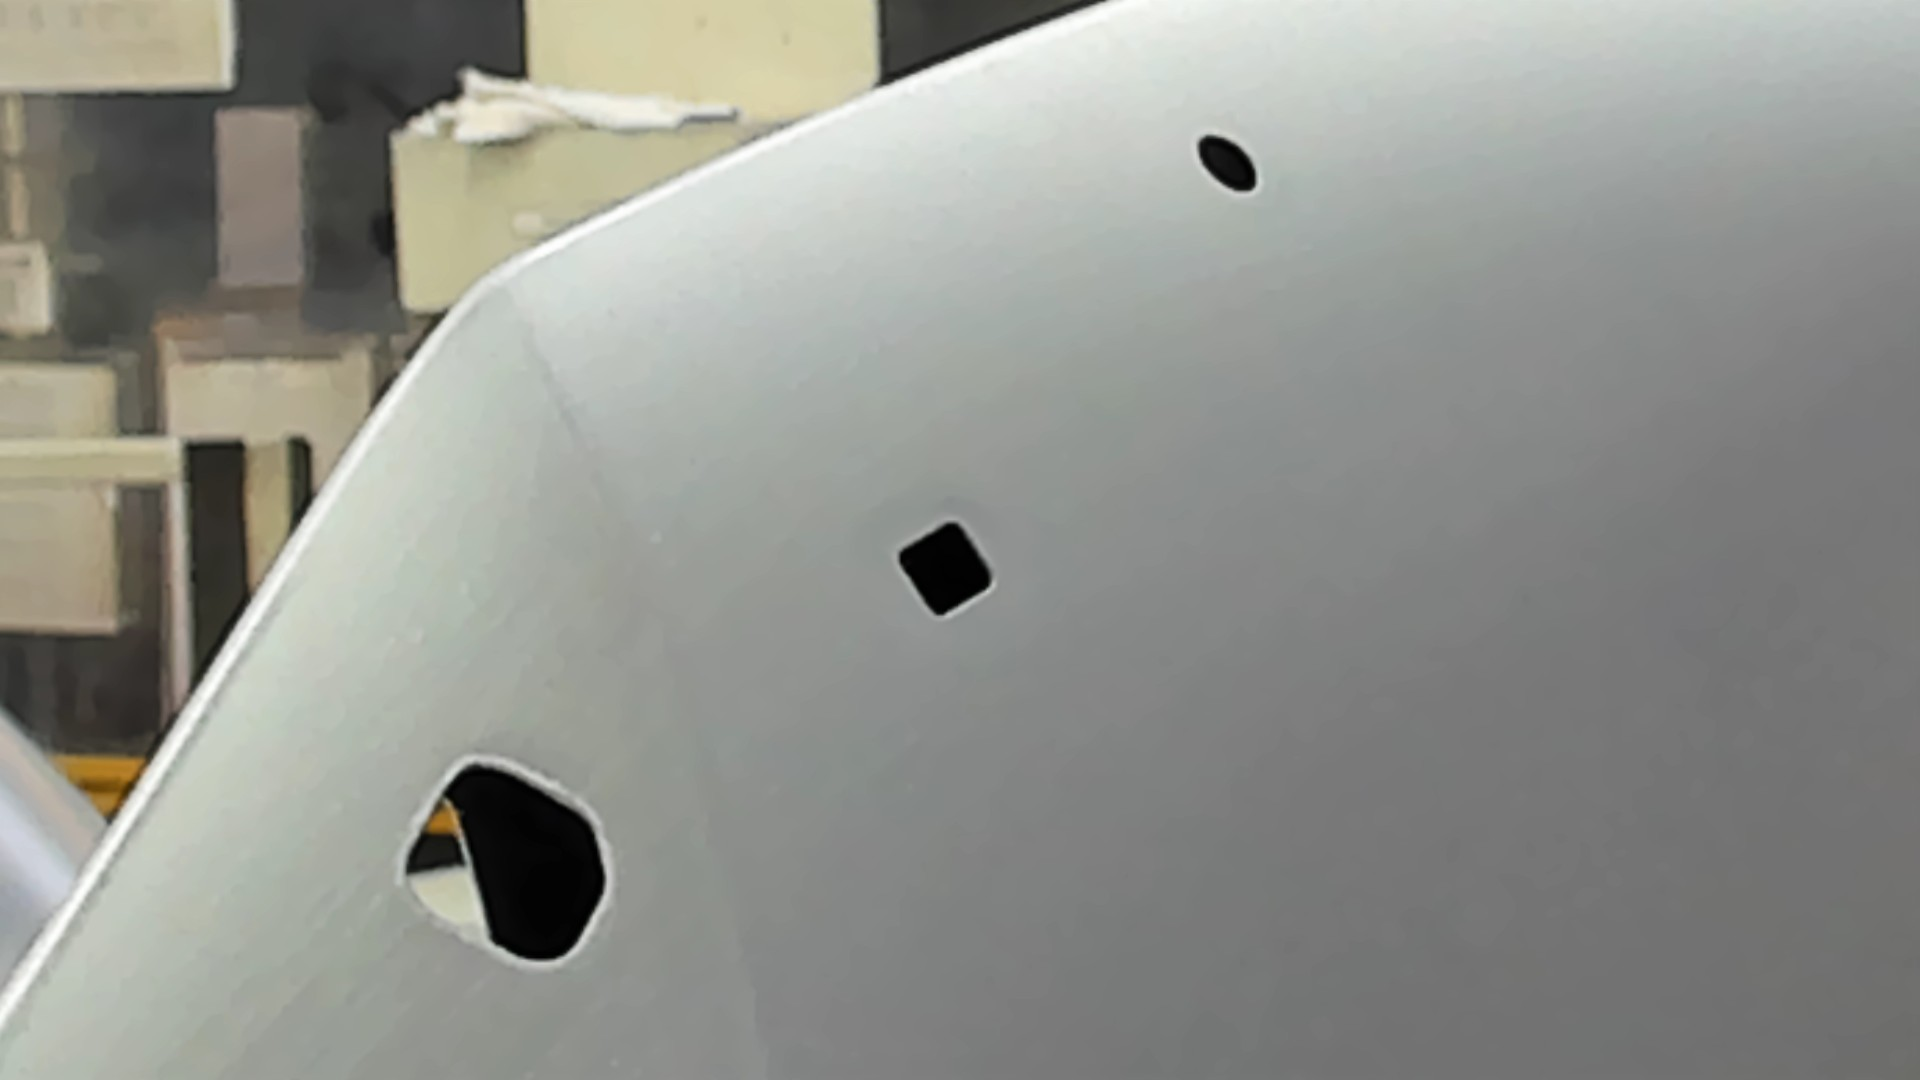chico: (1192, 129, 1261, 196)
grande: (392, 750, 622, 981)
mediano: (891, 518, 998, 622)
